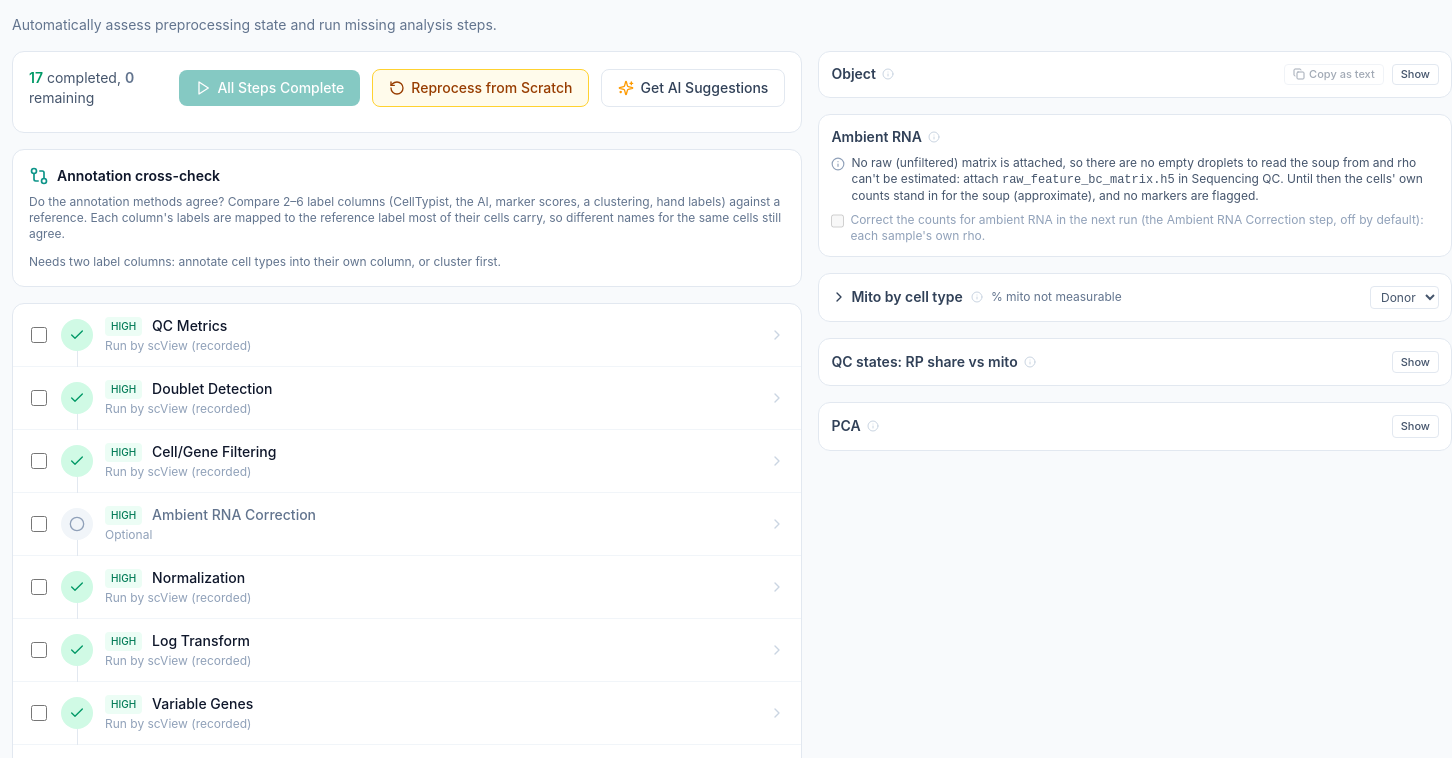
DataAssessmentPanel filtering mode › offers no per-type rule without MT- genes, and says why
This screenshot has width=1452, height=758.
Click the text "Cell/Gene Filtering": (214, 452) [152,442,276,462]
(page scrolled)
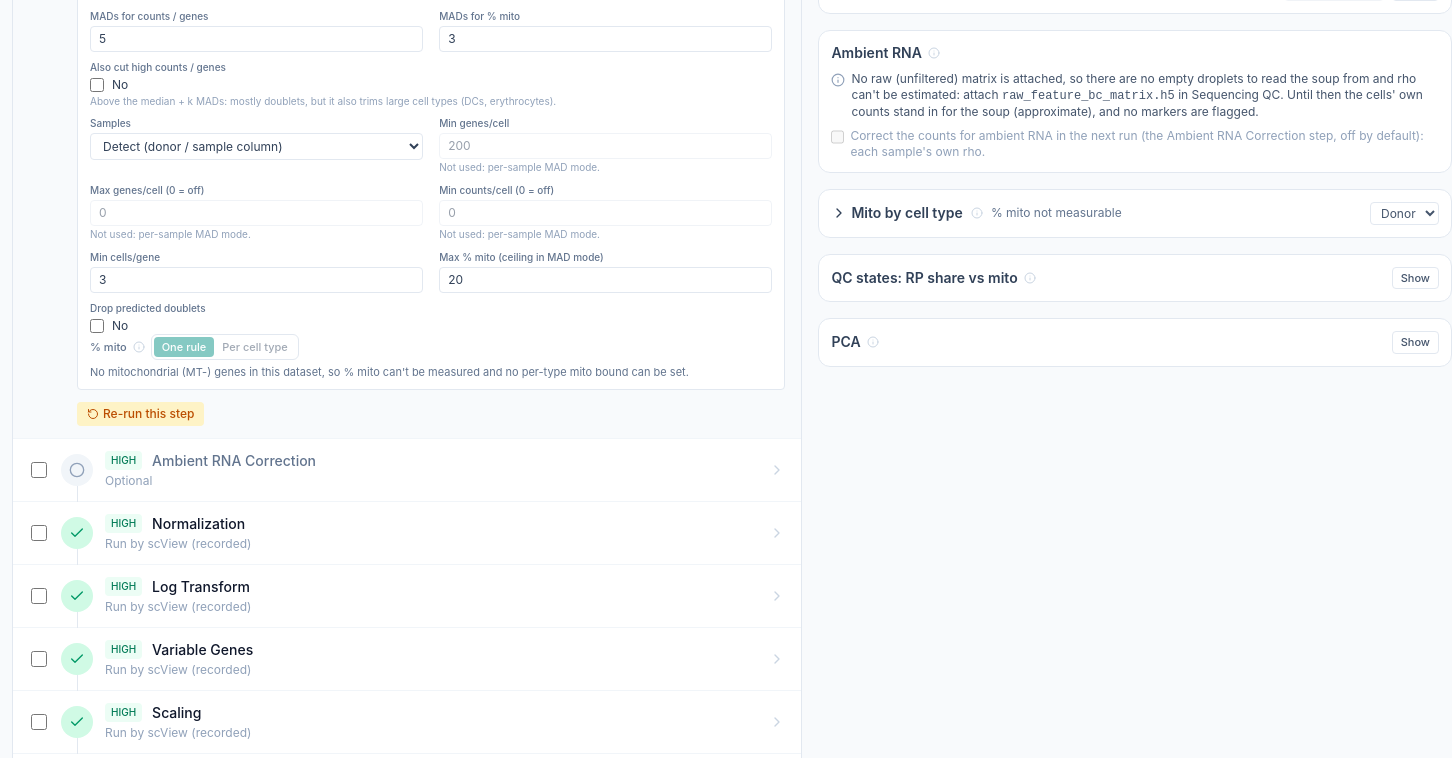
Expected: the button "Per cell type" is disabled, [214,337,296,357]
Expected: the text "% mito can't be measured and no per-type mito bound can be set" is shown, [90,365,689,379]
